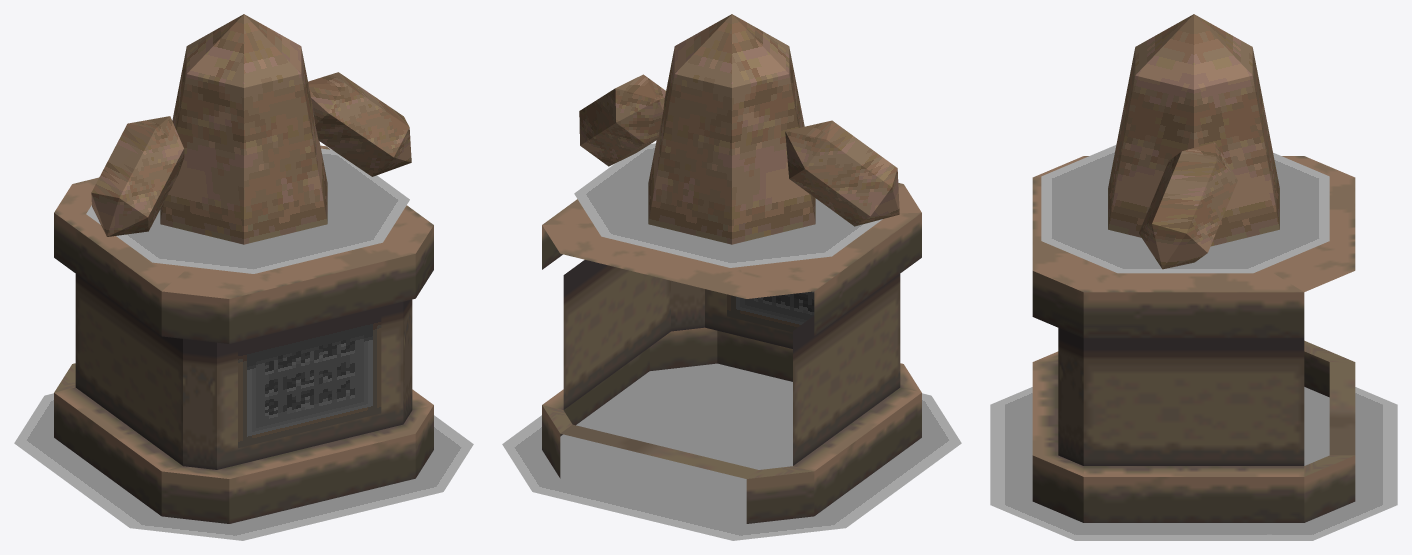
3 views of the same model, side by side, from view 1: azimuth 30°, elevation 25°; view 2: azimuth 150°, elevation 25°; view 3: azimuth 270°, elevation 25° (orthographic). The views are drawn at different scales.
Parts seen in each view (by area): view 1: polygon2, polygon1, polygon0, polygon3; view 2: polygon2, polygon0, polygon1, polygon3; view 3: polygon2, polygon0, polygon1.
Boxes of the visible parts, left/top/right/bottom form: polygon2: left=54, top=145, right=433, bottom=523; polygon1: left=91, top=14, right=411, bottom=244; polygon0: left=14, top=148, right=473, bottom=540; polygon3: left=238, top=312, right=381, bottom=448; polygon2: left=542, top=183, right=921, bottom=523; polygon0: left=502, top=143, right=961, bottom=540; polygon1: left=579, top=14, right=899, bottom=244; polygon3: left=727, top=291, right=814, bottom=332; polygon2: left=1032, top=156, right=1355, bottom=522; polygon0: left=990, top=145, right=1397, bottom=540; polygon1: left=1108, top=14, right=1279, bottom=269.
Bounding box in the file's own units: 6 × 7.17 × 6.
